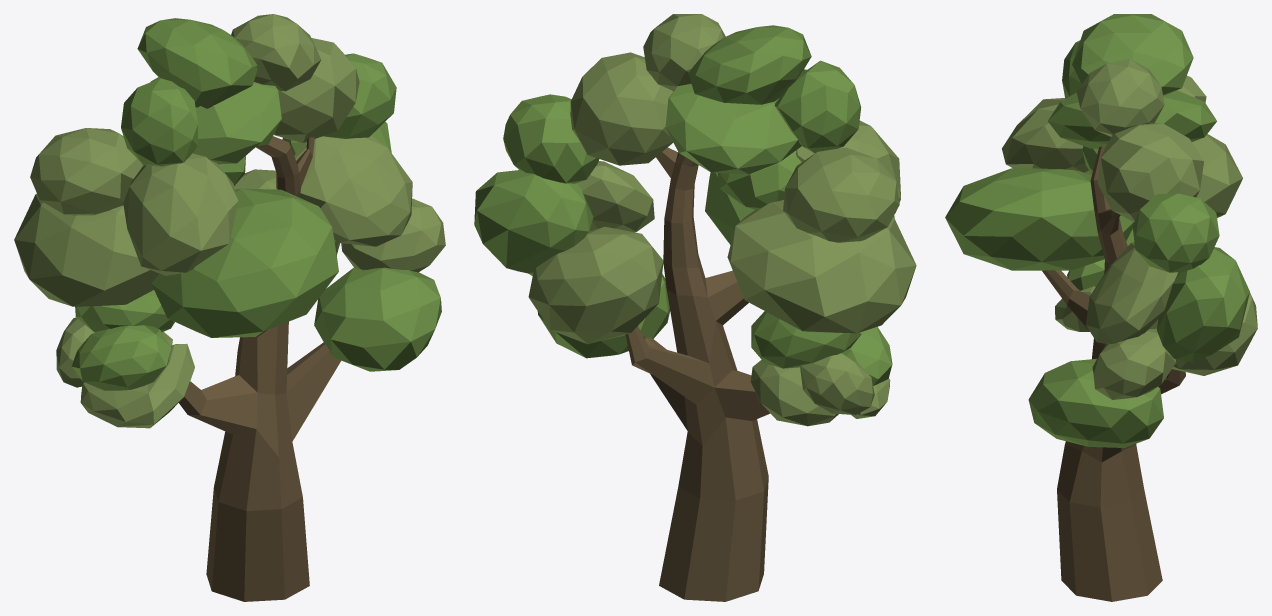
The model's file is tree2 1.fbx.
The picture shows the model from 3 angles, left to right: view 1: azimuth 30°, elevation 25°; view 2: azimuth 150°, elevation 25°; view 3: azimuth 270°, elevation 25°; orthographic projection. The views are drawn at different scales.
Parts seen in each view (by area): view 1: Oak_Tree:Mesh; view 2: Oak_Tree:Mesh; view 3: Oak_Tree:Mesh.
Part boxes in pixels (x1,y1,x2,y2): Oak_Tree:Mesh: (14,14,445,601); Oak_Tree:Mesh: (474,14,916,601); Oak_Tree:Mesh: (945,14,1257,601).
Size of the model in its own units: 28.99 by 38.94 by 20.78.
